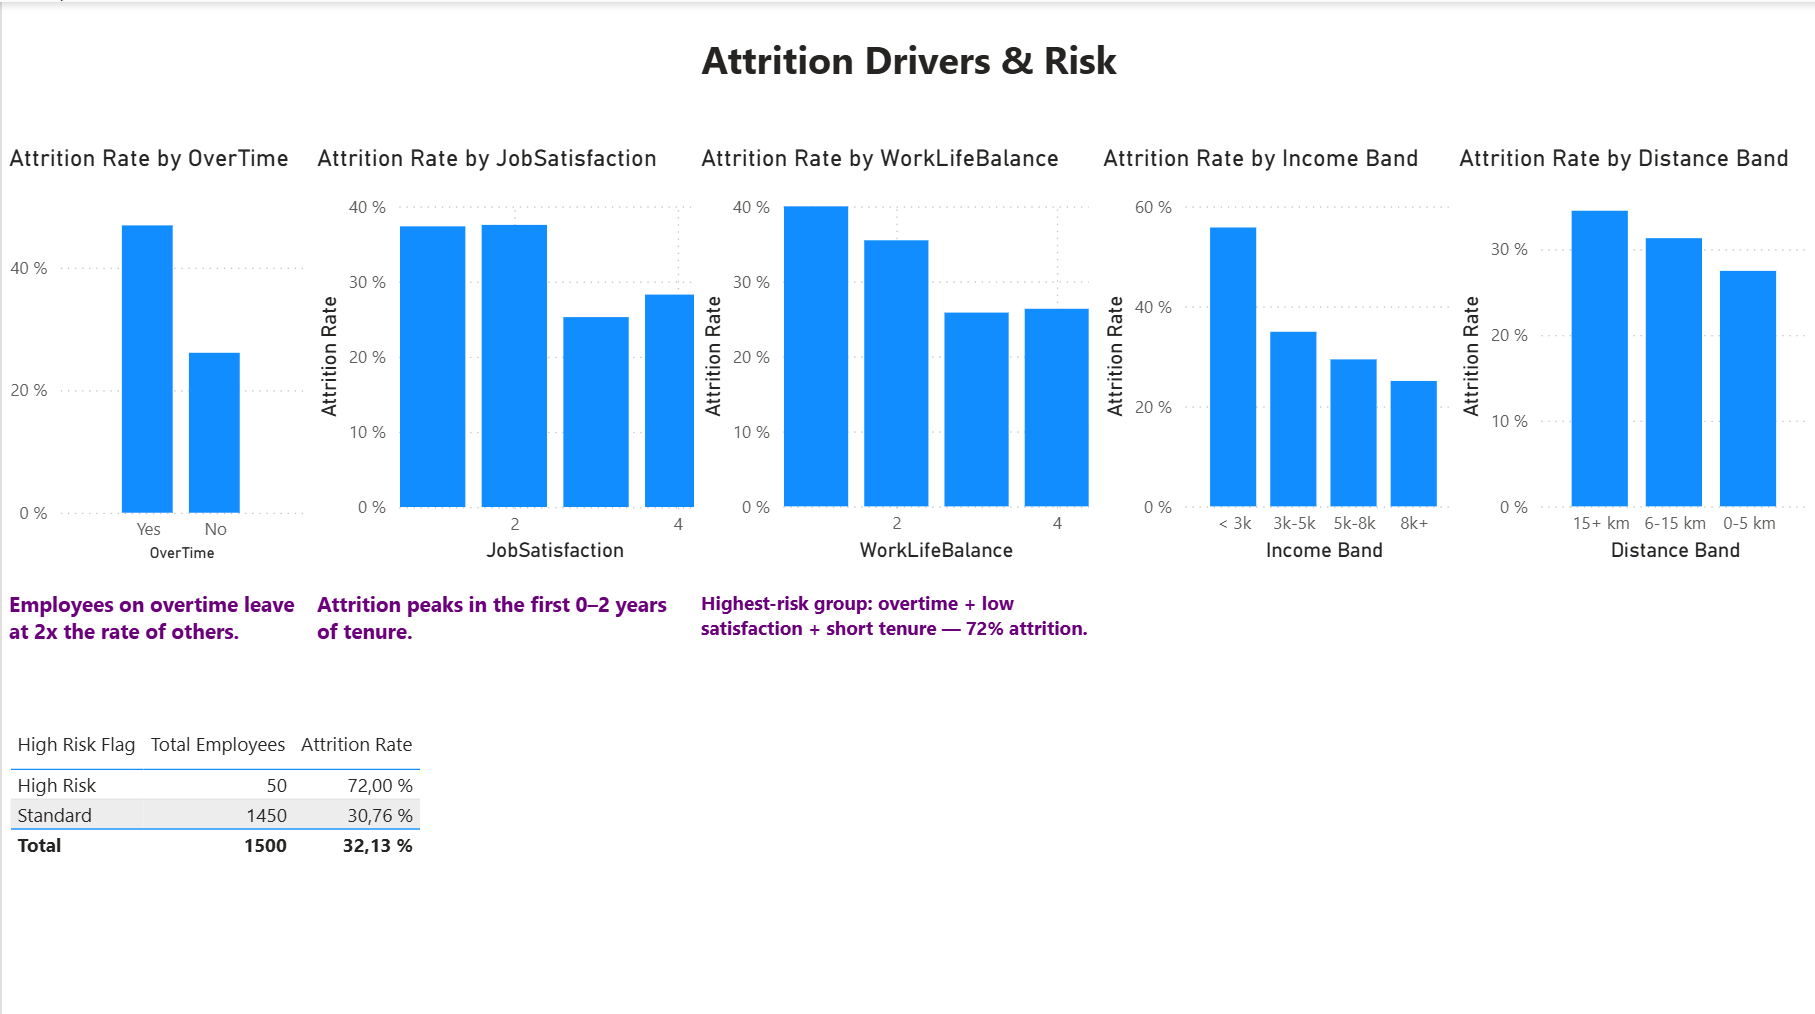

The page's visual inventory and layout, read from the dashboard file:
{"tool":"powerbi","page":{"name":"Page 2","canvas":[1280,720],"ordinal":1},"visuals":[{"type":"textbox","box":[0,17.3,1280,60.6],"z":0},{"type":"clusteredColumnChart","fields":{"Category":["Employees.OverTime"],"Y":["Employees.Attrition Rate"]},"box":[0,100.2,217.3,299.2],"z":1},{"type":"clusteredColumnChart","fields":{"Category":["Employees.JobSatisfaction"],"Y":["Employees.Attrition Rate"]},"box":[217.3,100.2,287.5,299.6],"z":2},{"type":"clusteredColumnChart","fields":{"Category":["Employees.WorkLifeBalance"],"Y":["Employees.Attrition Rate"]},"box":[488.3,100.2,283.7,299.2],"z":3},{"type":"clusteredColumnChart","fields":{"Category":["Employees.Income Band"],"Y":["Employees.Attrition Rate"]},"box":[772,100.2,263.9,299.2],"z":4},{"type":"clusteredColumnChart","fields":{"Category":["Employees.Distance Band"],"Y":["Employees.Attrition Rate"]},"box":[1023.2,100.2,256.8,299.2],"z":5},{"type":"tableEx","fields":{"Values":["Employees.High Risk Flag","Employees.Total Employees","Employees.Attrition Rate"]},"box":[0,508,304.8,110.1],"z":6},{"type":"textbox","box":[0,409.3,217.3,67.7],"z":7},{"type":"textbox","box":[217.3,409.3,271,69.2],"z":8},{"type":"textbox","box":[488.3,409.3,299.2,67.7],"z":9}]}

Visuals, with their boxes in screenshot pixels (x1, y1, x2, y2), scaled from the page's 1280x720 canvas onto the 1815x1014 screenshot:
textbox: bbox(0, 24, 1814, 110)
clusteredColumnChart - Employees.OverTime x Employees.Attrition Rate: bbox(0, 141, 308, 562)
clusteredColumnChart - Employees.JobSatisfaction x Employees.Attrition Rate: bbox(308, 141, 716, 563)
clusteredColumnChart - Employees.WorkLifeBalance x Employees.Attrition Rate: bbox(692, 141, 1095, 562)
clusteredColumnChart - Employees.Income Band x Employees.Attrition Rate: bbox(1095, 141, 1469, 562)
clusteredColumnChart - Employees.Distance Band x Employees.Attrition Rate: bbox(1451, 141, 1814, 562)
tableEx - Employees.High Risk Flag x Employees.Total Employees: bbox(0, 715, 432, 870)
textbox: bbox(0, 576, 308, 672)
textbox: bbox(308, 576, 692, 674)
textbox: bbox(692, 576, 1117, 672)
